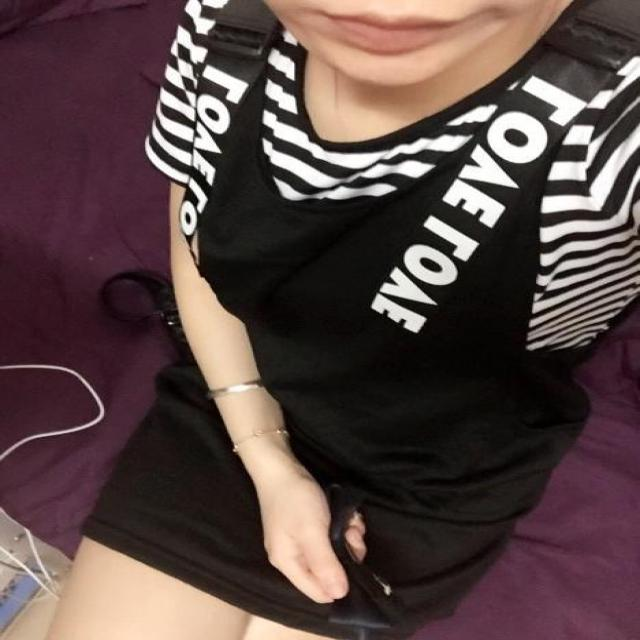short-sleeve-dress: (139, 29, 640, 575)
